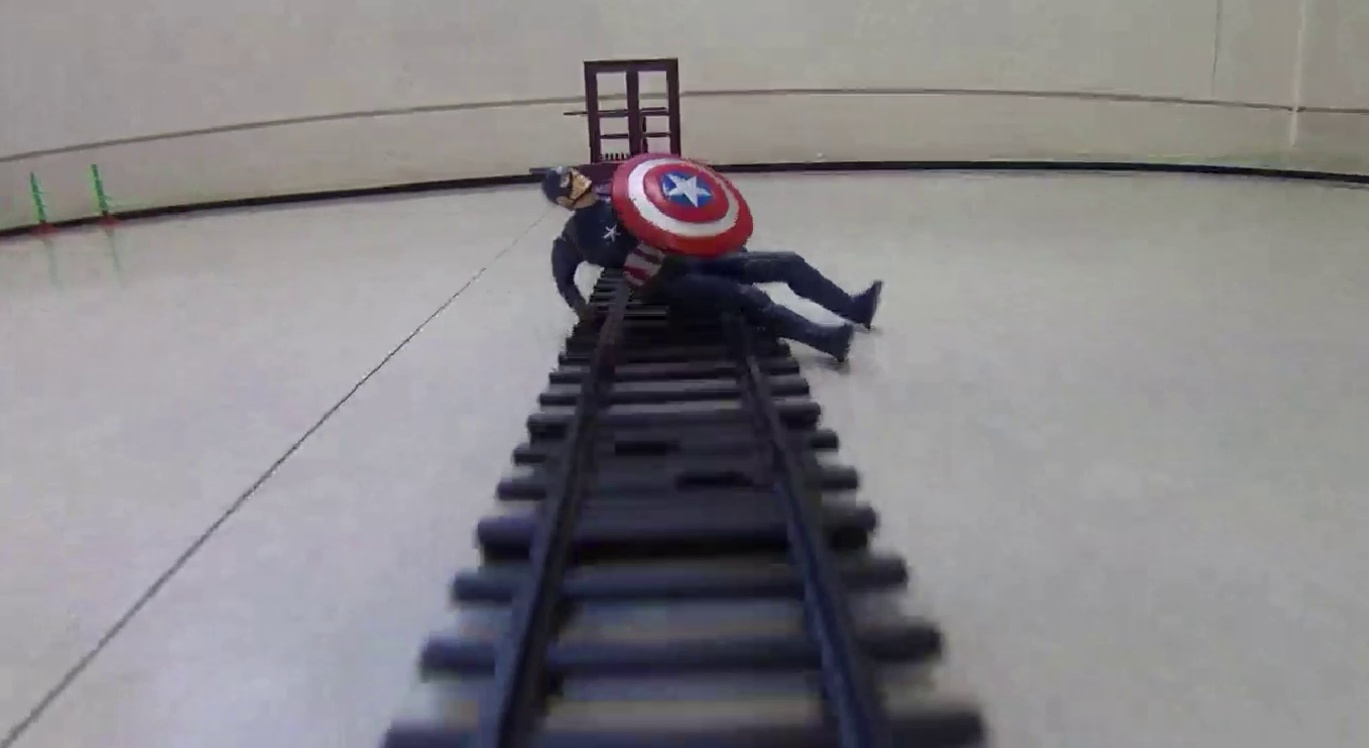people: (545, 149, 888, 370)
